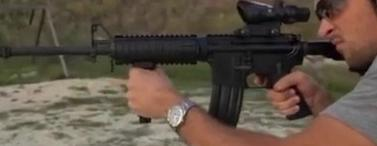gun: (1, 1, 377, 146)
